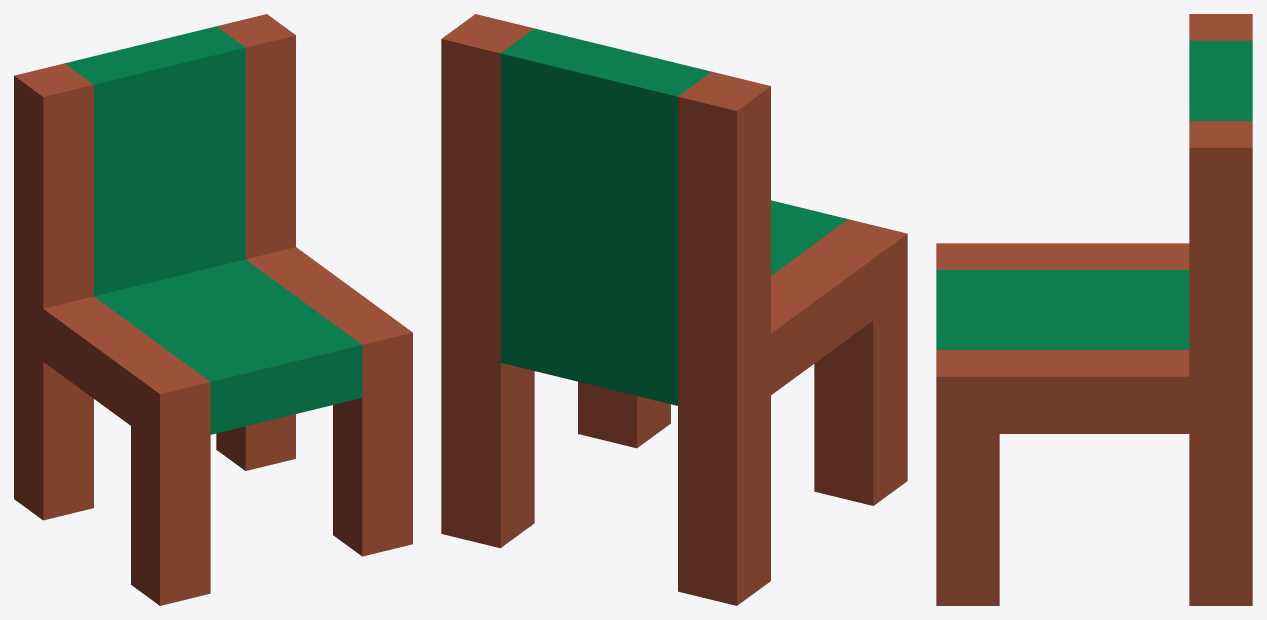
The model's file is chair_a_green.obj.
3 renders of one model, left to right at view 1: azimuth 30°, elevation 25°; view 2: azimuth 150°, elevation 25°; view 3: azimuth 270°, elevation 25°, orthographic. The views are drawn at different scales.
Size of the model in its own units: 0.5 by 0.8 by 0.5.
Materials: 1 (1 with a texture image).
